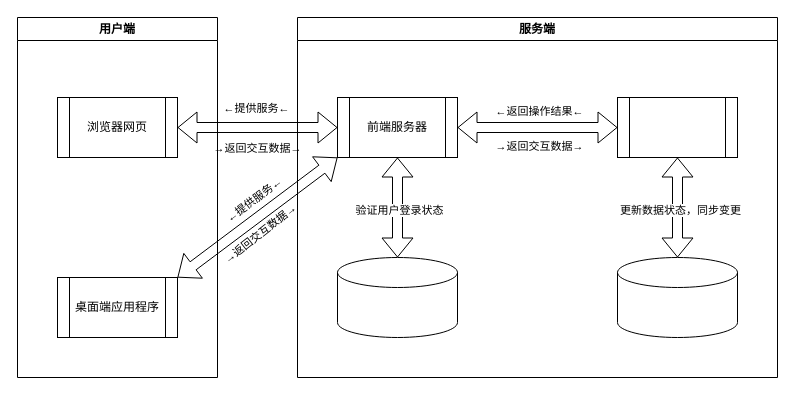
Some shapes in this 795 by 395 pixel diagram are drawn without their labels. Here are the shapes that lost their labels. From the top down, the centre of each, then its label:
(x=677, y=127): 后端服务器
(x=397, y=297): 用户会话数据库
(x=677, y=297): 用户数据数据库
